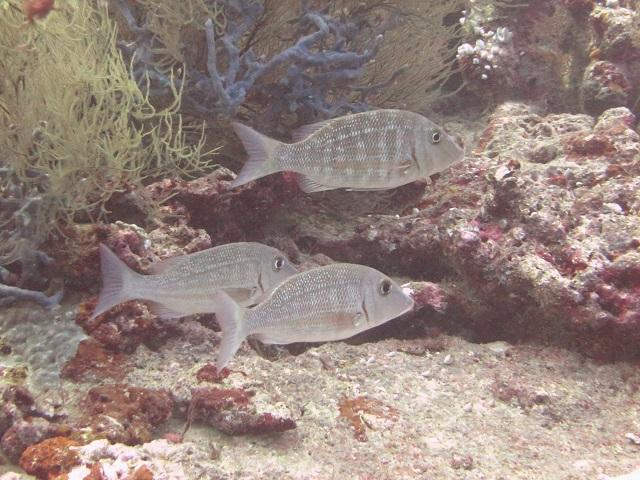Sirip Dada: (276, 307, 364, 331), (156, 286, 260, 302), (326, 157, 416, 175)
Sirip Ekor: (77, 228, 139, 332), (208, 109, 280, 197), (204, 273, 260, 383)
Sirip Punggung: (256, 248, 338, 304), (288, 96, 370, 147), (145, 234, 185, 280)
